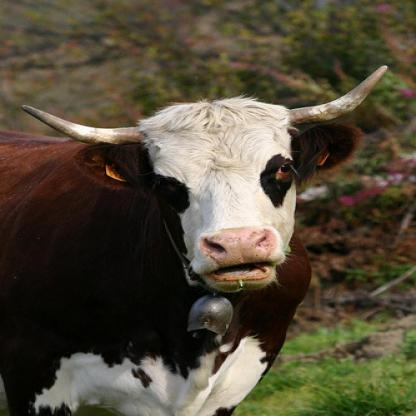cow: (0, 64, 390, 415)
